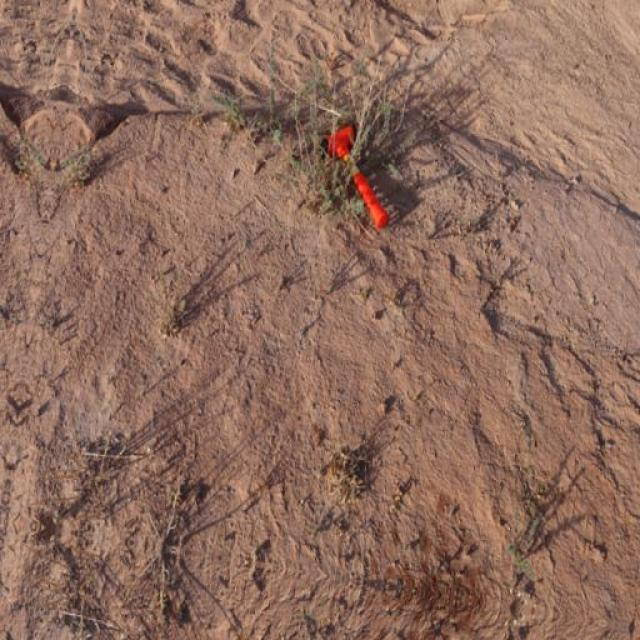mallet: (322, 122, 388, 228)
